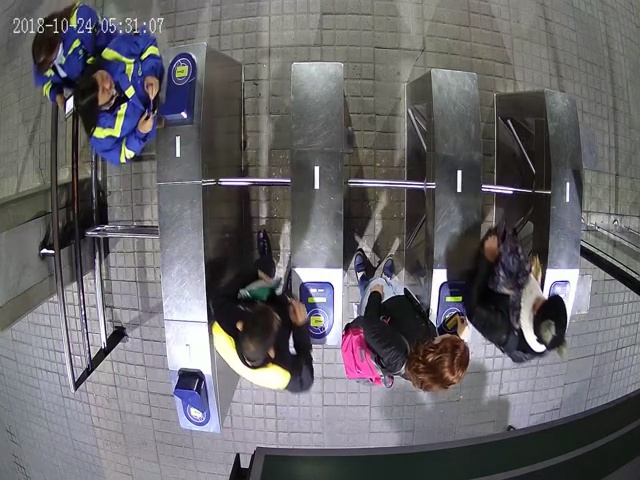Chaleco_azul: (74, 26, 164, 165), (32, 5, 119, 109)
